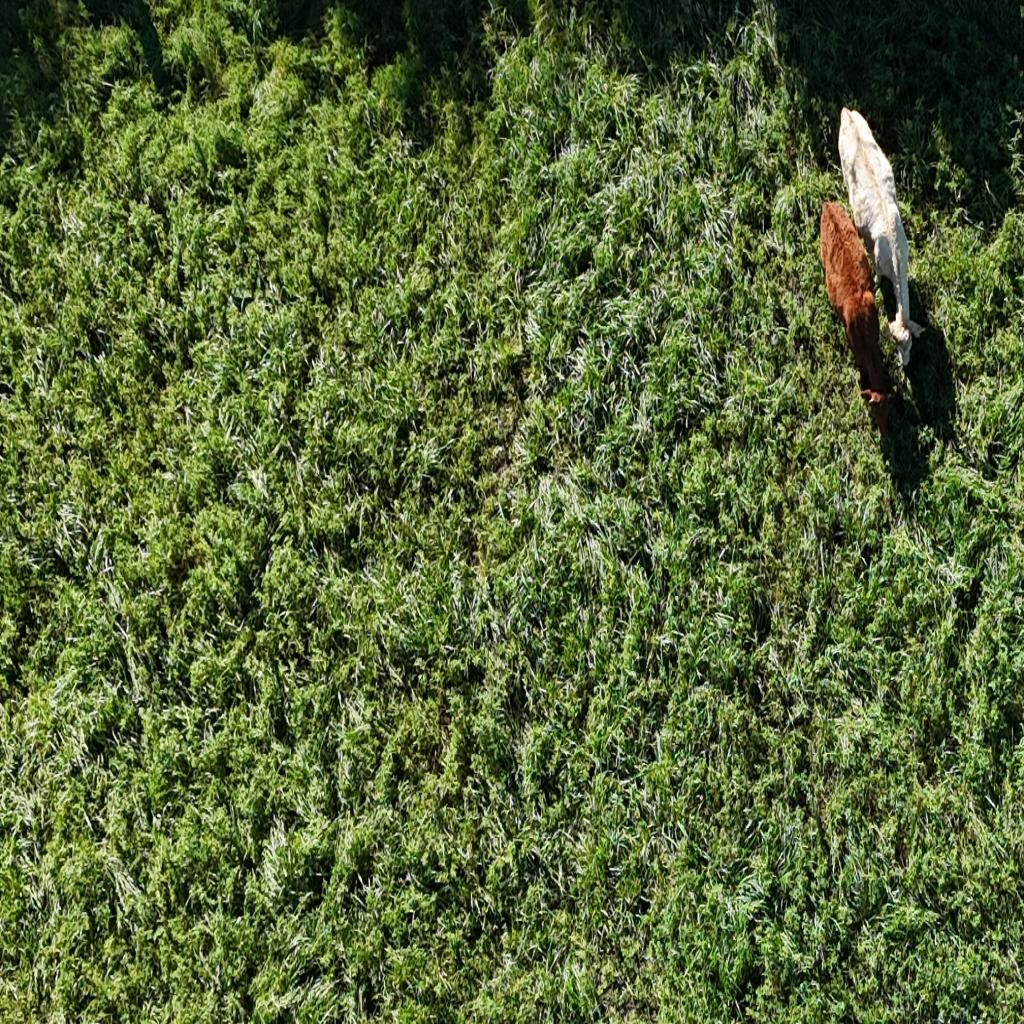cow: (812, 156, 898, 474), (840, 84, 923, 384)
